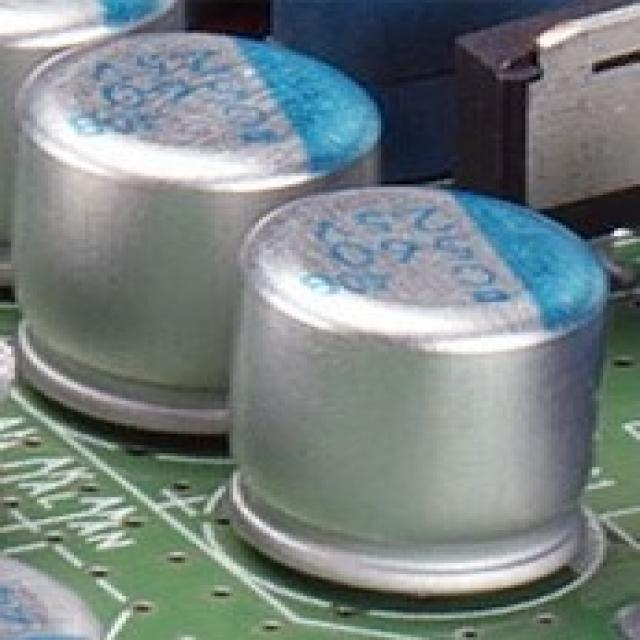capacitor 1V5: (222, 177, 607, 596), (9, 13, 392, 419)
